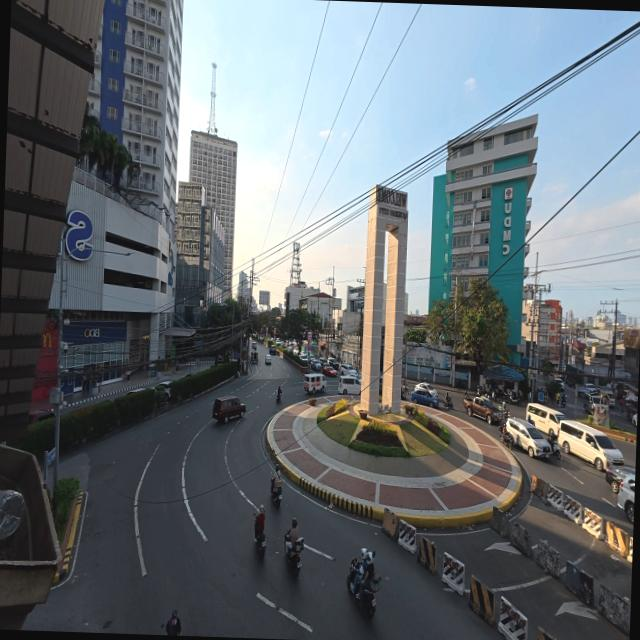car: (505, 417, 550, 457), (462, 397, 501, 424), (211, 396, 244, 422), (617, 475, 634, 524), (605, 466, 635, 493), (410, 390, 438, 408), (413, 382, 436, 397), (154, 381, 170, 397), (123, 387, 145, 396), (339, 364, 356, 375), (322, 367, 336, 377), (310, 360, 321, 372), (340, 362, 354, 370), (327, 358, 337, 369), (554, 378, 563, 390), (584, 384, 594, 391), (268, 345, 275, 355), (631, 414, 636, 427), (319, 358, 327, 366), (299, 355, 307, 363), (292, 346, 299, 355), (264, 355, 270, 364), (251, 341, 256, 350)
motorcycle: (284, 530, 303, 575), (360, 577, 380, 617), (546, 434, 560, 459), (499, 425, 512, 449), (270, 479, 281, 507), (255, 532, 265, 558), (506, 391, 519, 404), (476, 385, 489, 396), (442, 398, 453, 409), (400, 385, 406, 400), (560, 396, 565, 408), (276, 394, 280, 403)
trucks: (463, 397, 502, 424)
vans: (557, 420, 623, 471), (525, 404, 564, 434), (303, 373, 324, 393), (338, 375, 359, 395)
